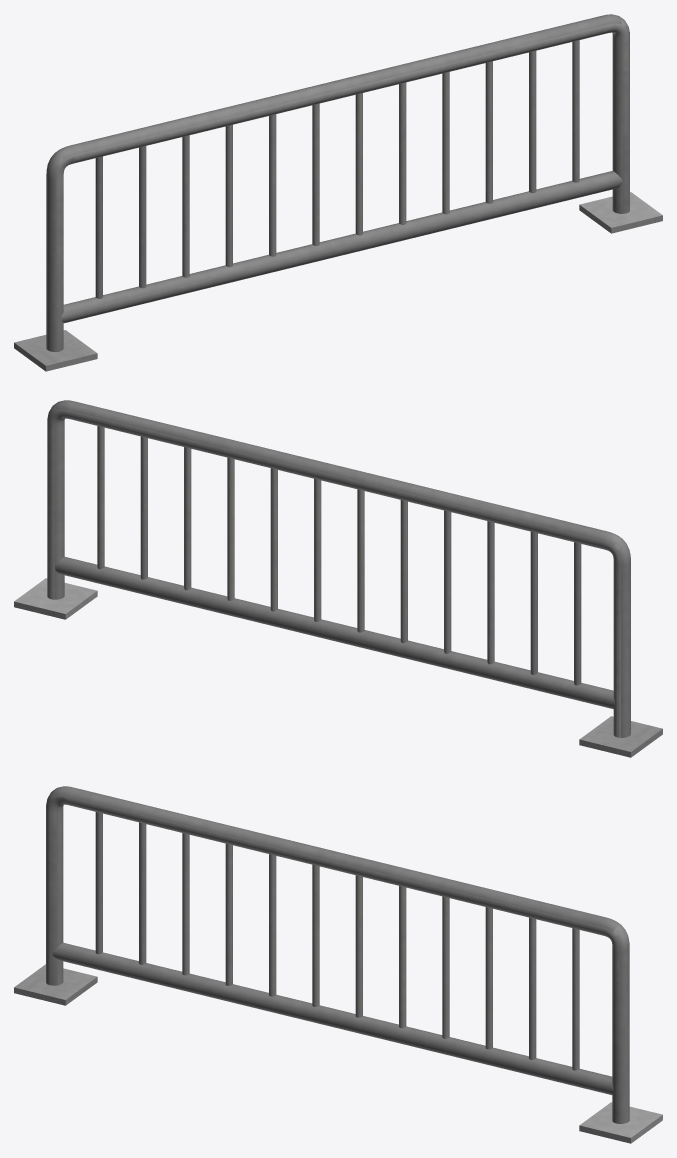
File: CrowdControl.fbx
3 views of the same model, one above another, from view 1: azimuth 30°, elevation 25°; view 2: azimuth 150°, elevation 25°; view 3: azimuth 330°, elevation 25° (orthographic).
Parts seen in each view (by area): view 1: CrowdControl; view 2: CrowdControl; view 3: CrowdControl.
Part boxes in pixels (left/top/right/bottom): CrowdControl: left=14, top=14, right=662, bottom=371; CrowdControl: left=14, top=400, right=662, bottom=757; CrowdControl: left=14, top=786, right=662, bottom=1143.
Bounding box in the file's own units: 285 × 89.88 × 25.54.
Materials: 1 (1 with a texture image).
